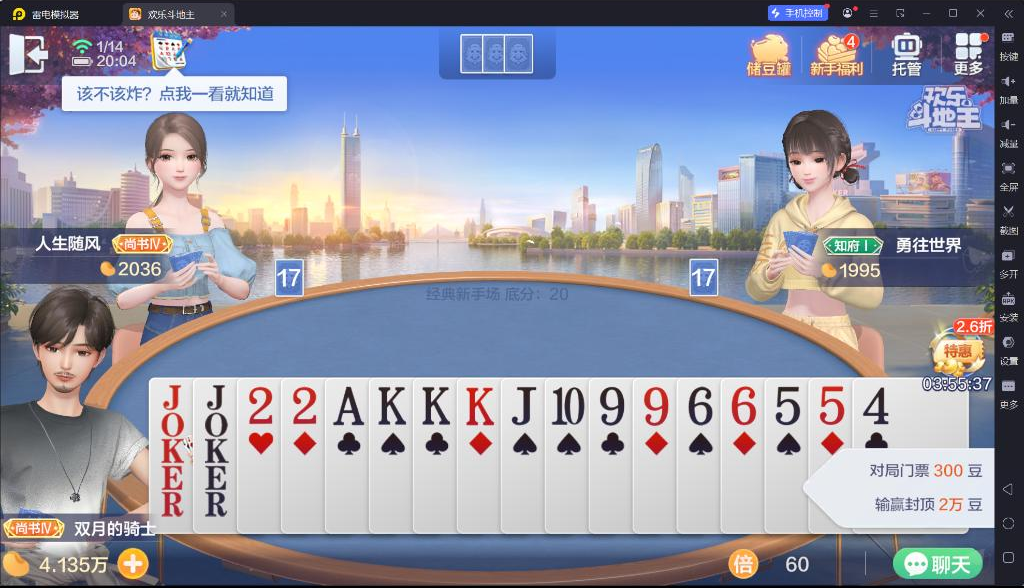A: (329, 383, 367, 429)
J: (506, 384, 540, 427)
JOKER: (157, 382, 189, 472)
K: (372, 383, 407, 429), (461, 383, 495, 429), (417, 384, 451, 428)
five: (771, 382, 804, 428), (815, 383, 847, 429)
four: (860, 384, 892, 427)
joker: (198, 381, 229, 471)
nine: (595, 384, 627, 427), (641, 384, 671, 428)
six: (724, 384, 758, 428), (683, 384, 715, 430)
ten: (549, 383, 588, 429)
two: (244, 384, 275, 428), (289, 383, 319, 428)
